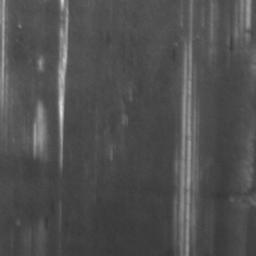Bright scratch: (174, 40, 200, 256), (59, 0, 69, 174), (33, 100, 49, 160)
